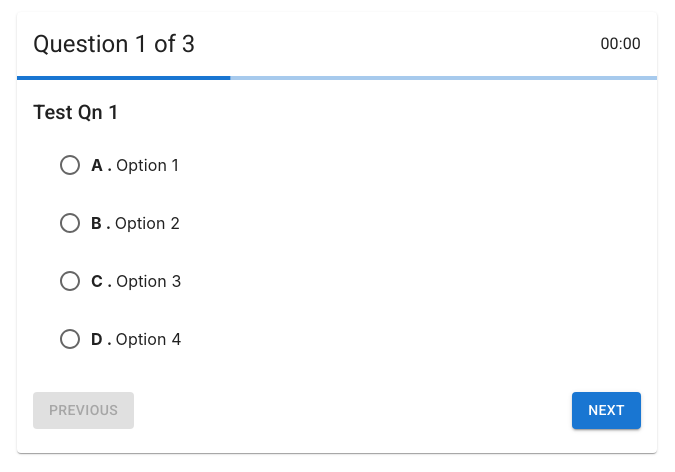
Test: Quiz Component › navigates between questions using Next and Previous buttons
Expected: the heading "Test Qn 1" is shown, [33, 100, 120, 124]
Expected: the button "Previous" is disabled, [33, 392, 134, 428]
// Click Next
Click the button "Next": x=607, y=410 [572, 392, 641, 428]
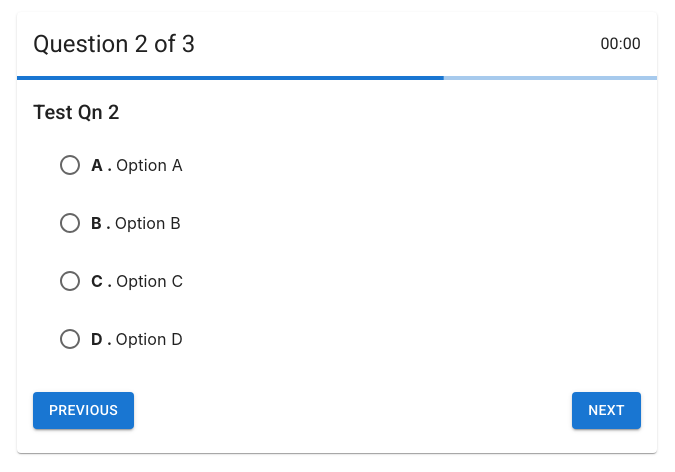
Expected: the heading "Test Qn 2" is shown, [33, 100, 120, 124]
Expected: the button "Previous" is enabled
// Click Previous
Click the button "Previous": x=84, y=410 [33, 392, 134, 428]
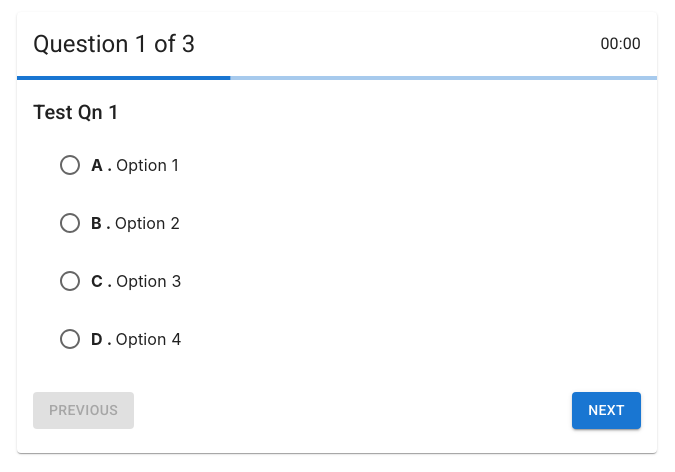
Expected: the heading "Test Qn 1" is shown, [33, 100, 120, 124]
